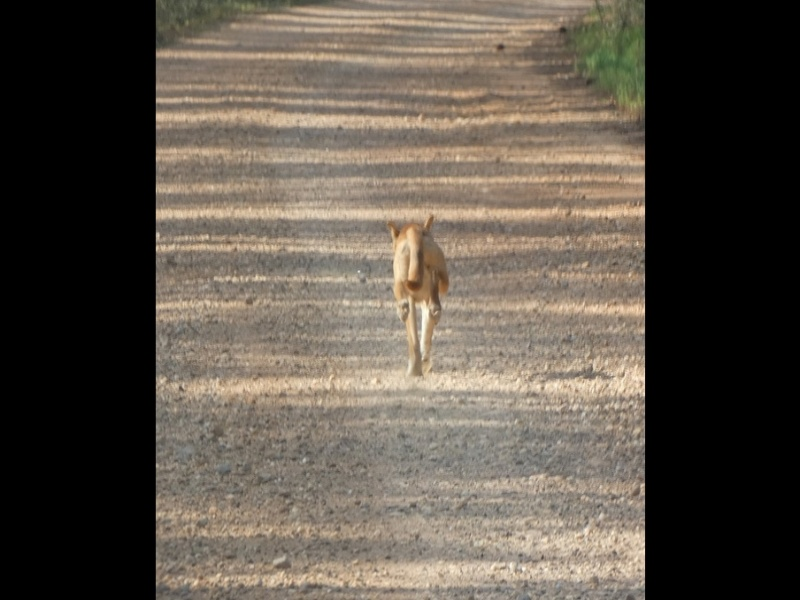dog: (383, 209, 455, 384)
